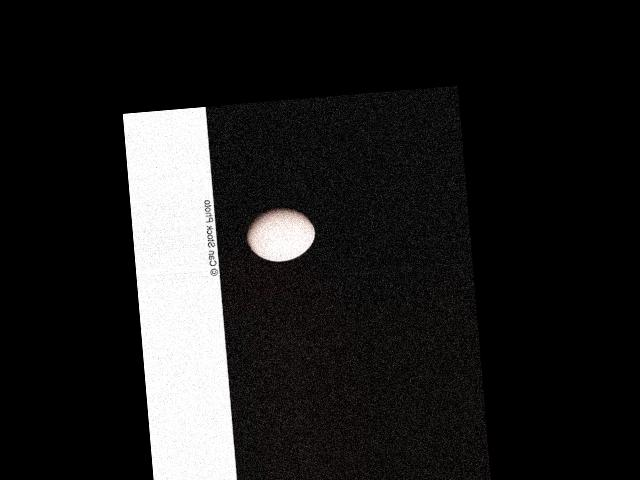egg: (243, 205, 317, 263)
